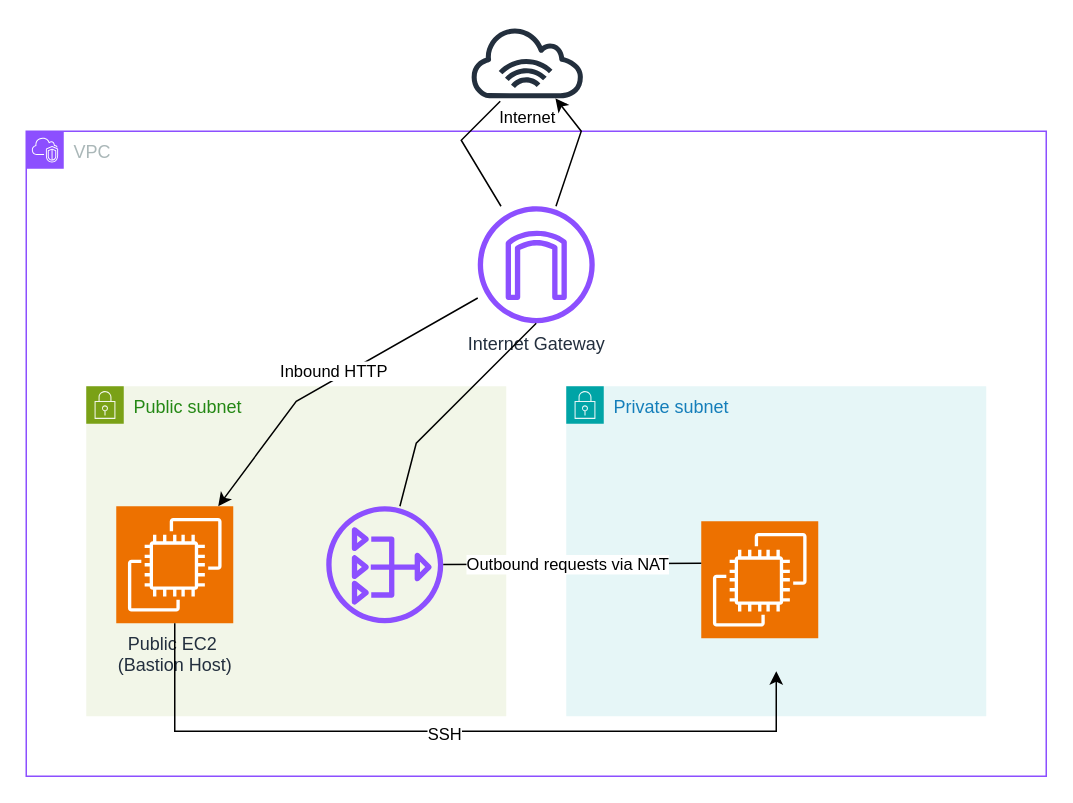
The diagram is 1073 pixels wide and 803 high, and some of its shapes have lost their labels. Each missing label, with the centre of its shape:
"NAT Gateway (Elastic IP)" belongs at (384,564).
"Private EC2" belongs at (759,579).
